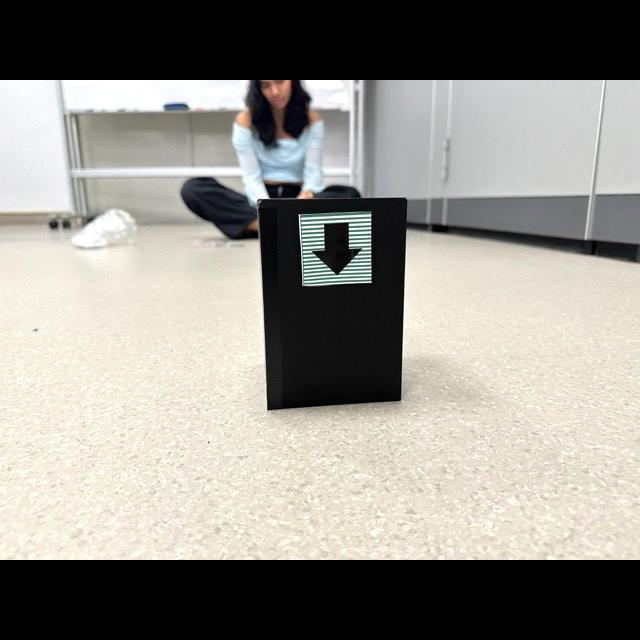DOWN: (311, 223, 363, 276)
